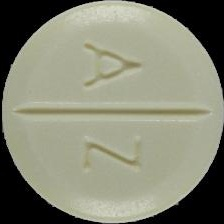51079-620: (0, 0, 224, 224)
